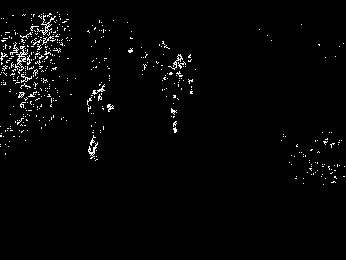person: (82, 82, 115, 165)
